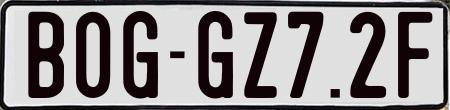0: (73, 12, 113, 100)
2: (348, 10, 386, 96)
7: (286, 9, 322, 95)
B: (28, 9, 70, 101)
F: (395, 9, 434, 99)
G: (195, 11, 231, 99), (120, 10, 155, 99)
Z: (244, 12, 279, 101)
